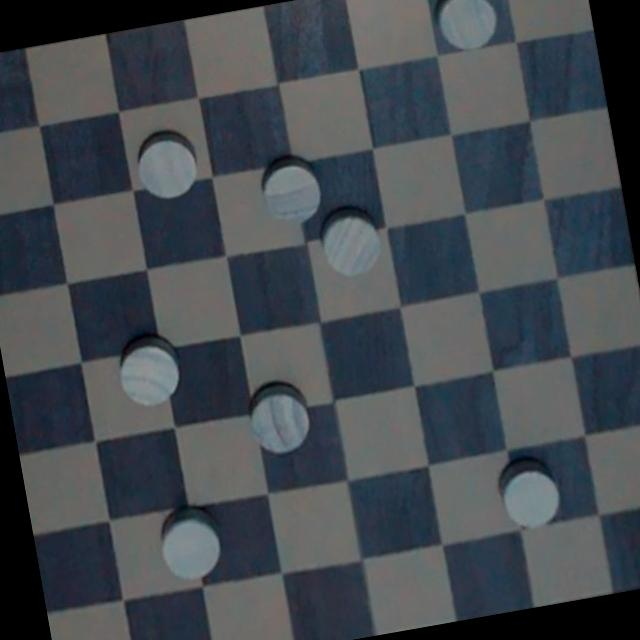BOARD: (0, 0, 640, 640)
white: (150, 496, 238, 591), (312, 208, 415, 284), (240, 372, 320, 461), (108, 325, 190, 411), (493, 448, 568, 532), (130, 126, 204, 204), (254, 152, 324, 225), (427, 0, 510, 60)
